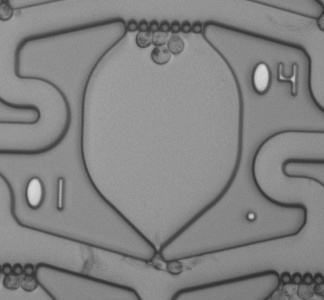AptNum: (242, 56, 306, 106)
Marker: (240, 209, 262, 225)
StNum: (18, 173, 78, 215)
